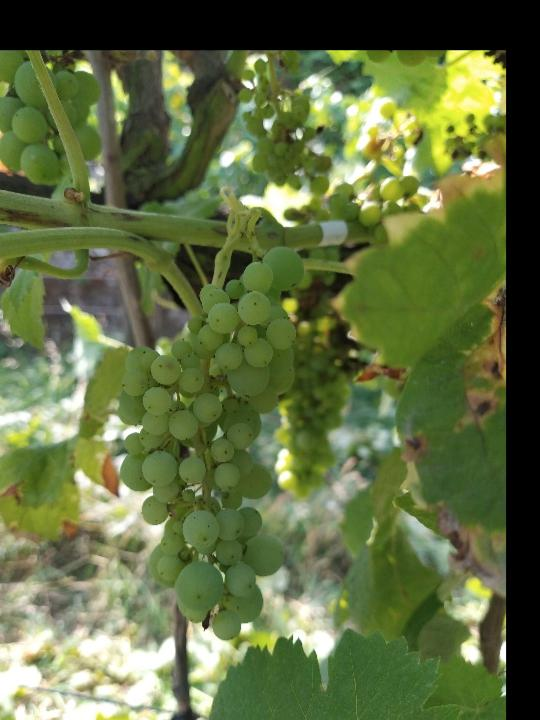grape: (117, 242, 307, 644)
